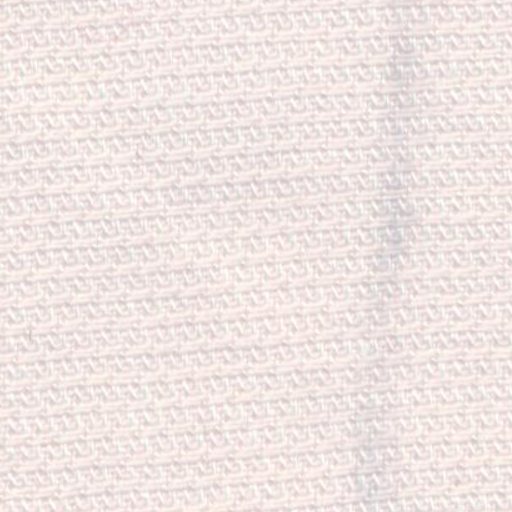WuZi: (328, 24, 446, 502)
